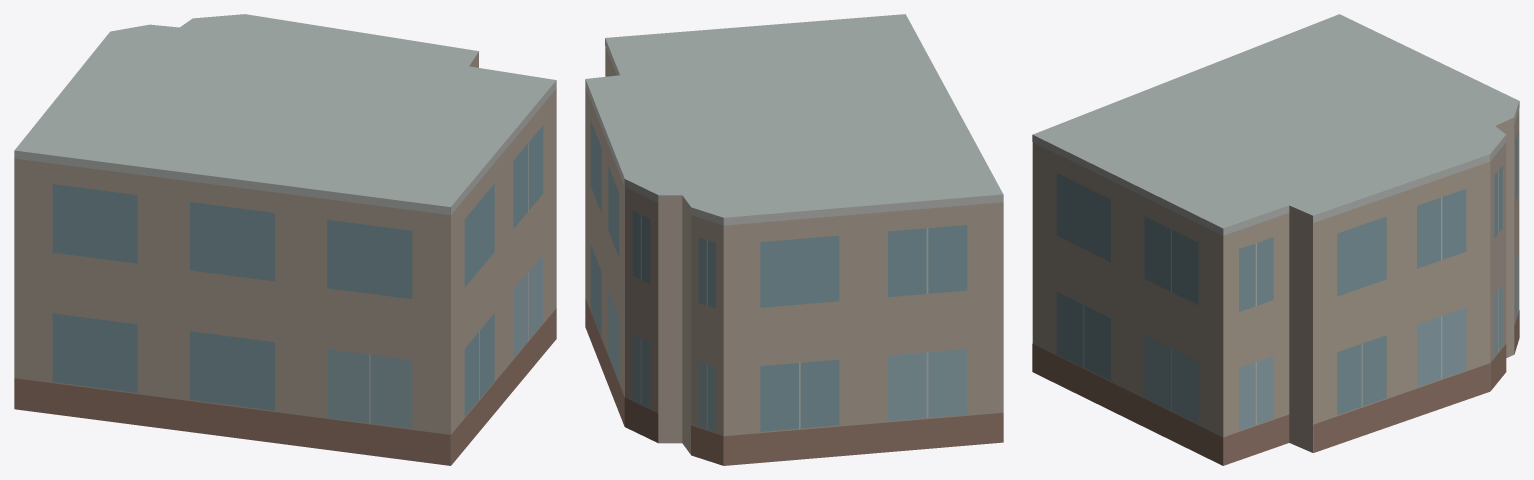
The model's file is survey-upis-32625343.glb.
The picture shows the model from 3 angles, left to right: view 1: azimuth 30°, elevation 25°; view 2: azimuth 150°, elevation 25°; view 3: azimuth 270°, elevation 25°; orthographic projection. The views are drawn at different scales.
Visible parts, largest first — view 1: survey-upis-32625343.tmp; view 2: survey-upis-32625343.tmp; view 3: survey-upis-32625343.tmp.
Boxes of the visible parts, left/top/right/bottom form: survey-upis-32625343.tmp: left=14, top=14, right=556, bottom=465; survey-upis-32625343.tmp: left=585, top=14, right=1003, bottom=465; survey-upis-32625343.tmp: left=1032, top=14, right=1519, bottom=465.
Size of the model in its own units: 15.12 by 7.8 by 14.5.
